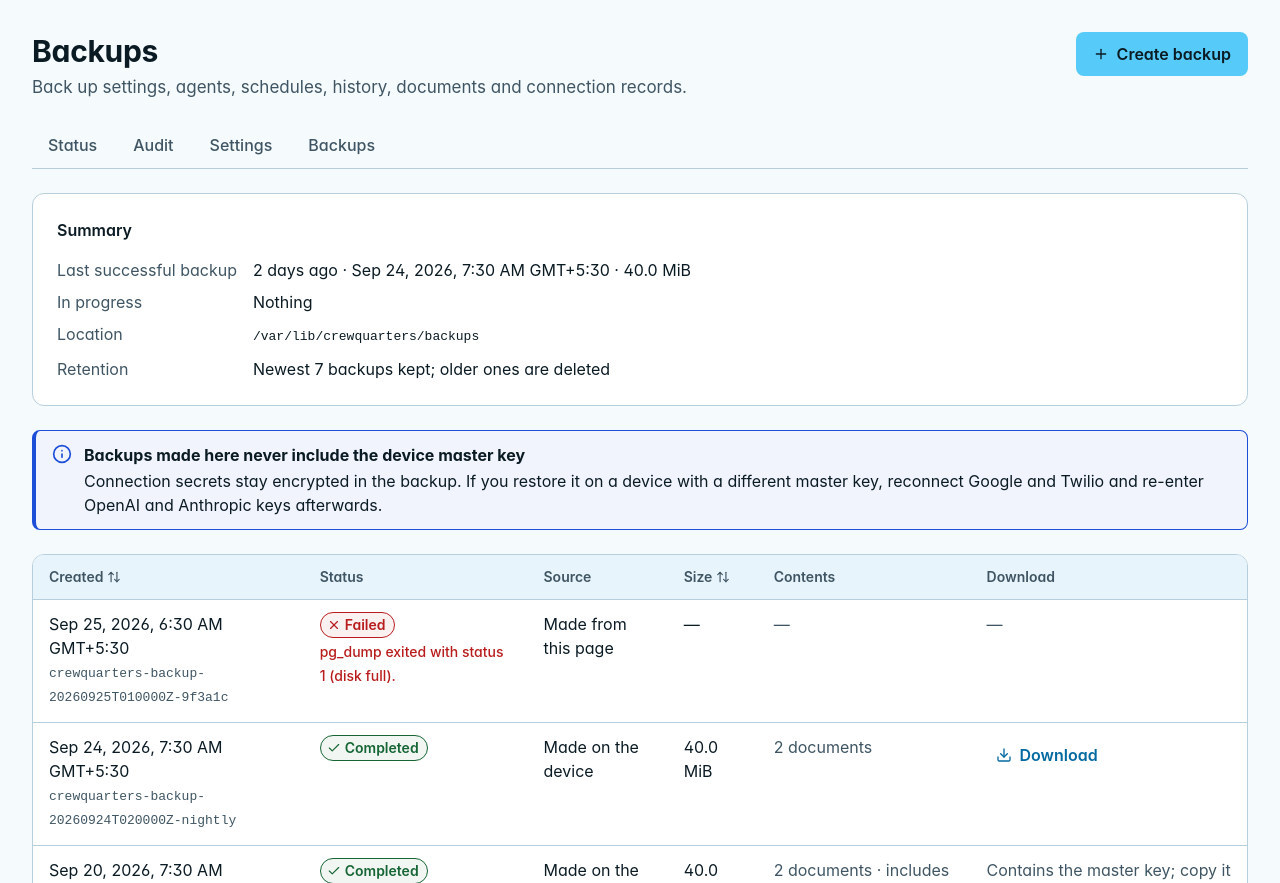
Test: Backups page › shows a 409 in-progress error with remediation
Expected: the text "Last successful backup" is shown, [57,258,237,282]
Click the button "Create backup": {"x": 1162, "y": 54} [1076,32,1248,76]
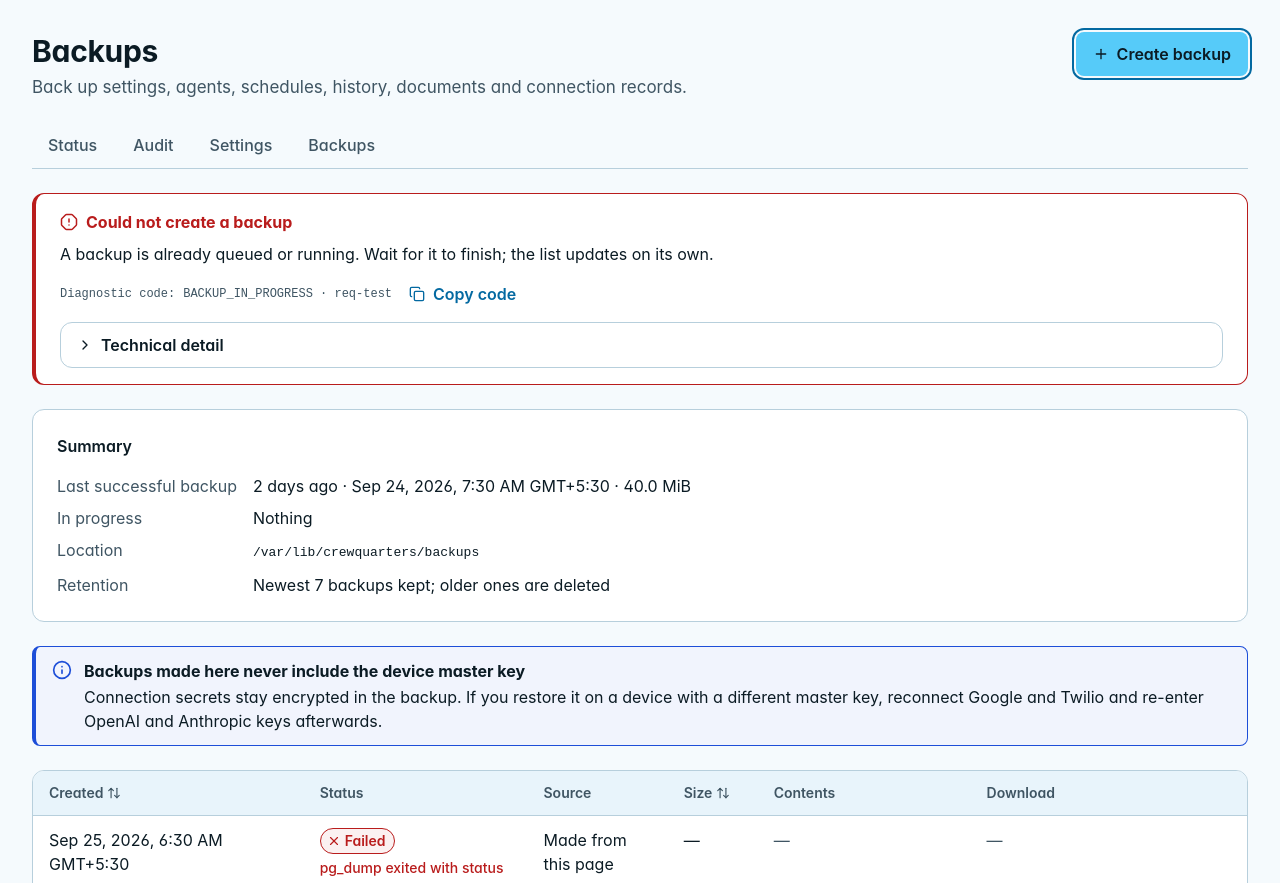
Now the text "Could not create a backup" is shown, box [60,212,292,232]
Now the text "already queued or running. Wait for it to finish" is shown, box [60,244,714,264]
Now the text "BACKUP_IN_PROGRESS · req-test" is shown, box [183,287,392,301]
